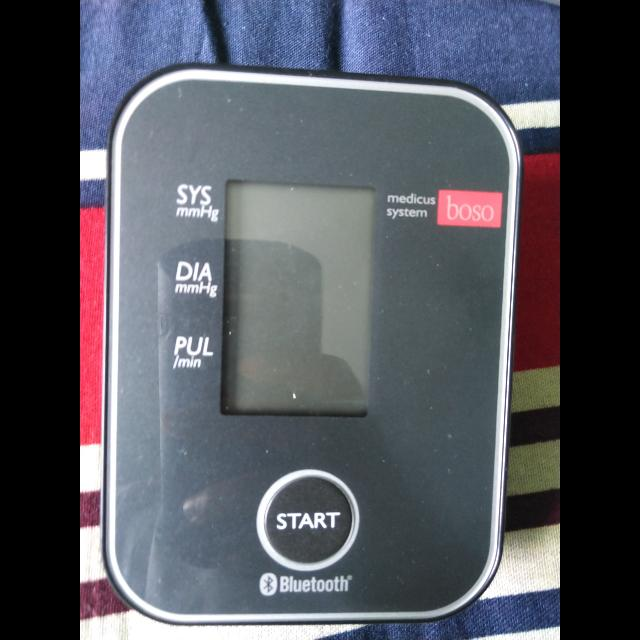Blood-Pressure-Monitor: (109, 38, 535, 610)
